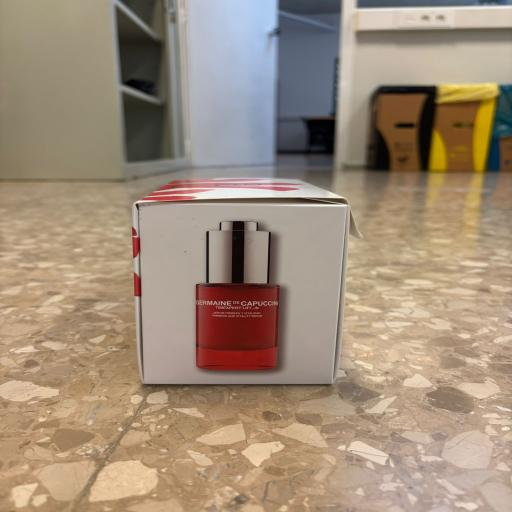caja_2: (132, 177, 361, 384)
